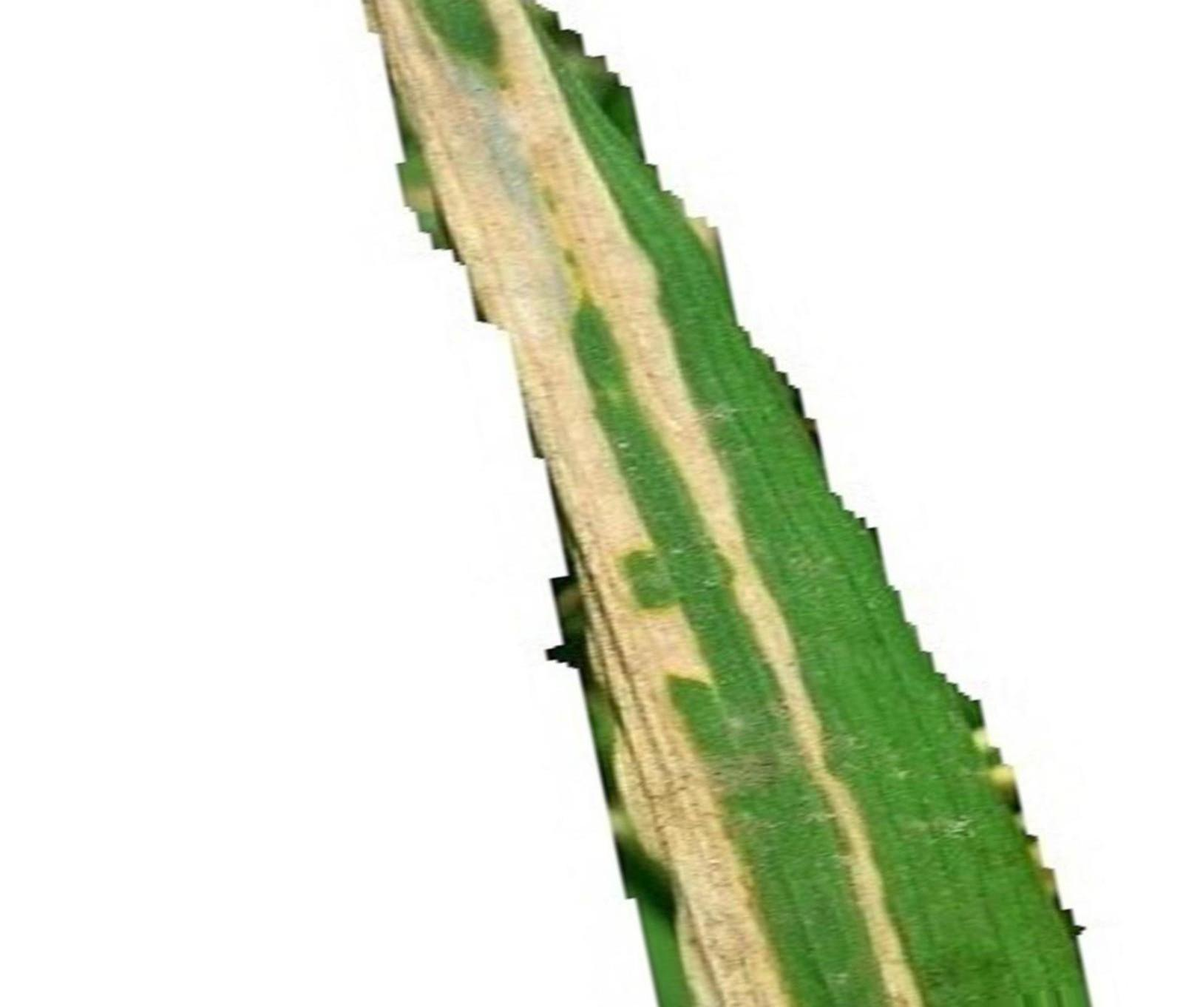BLB: (367, 0, 921, 1006)
LEAF: (366, 0, 1088, 1006)
